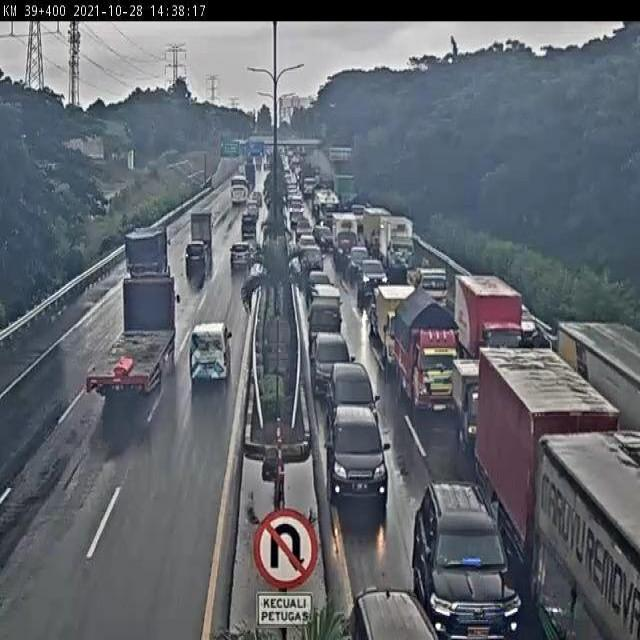big truck: (475, 344, 620, 533), (525, 426, 640, 640), (82, 267, 187, 409), (545, 313, 640, 423), (448, 267, 539, 369)
car: (408, 477, 521, 640), (326, 405, 398, 512), (348, 576, 444, 640), (324, 361, 384, 435), (185, 321, 238, 388), (119, 224, 177, 284), (306, 331, 356, 400), (184, 242, 213, 278), (228, 242, 253, 278)
small truck: (394, 285, 463, 419), (186, 208, 214, 251), (238, 211, 260, 241)
